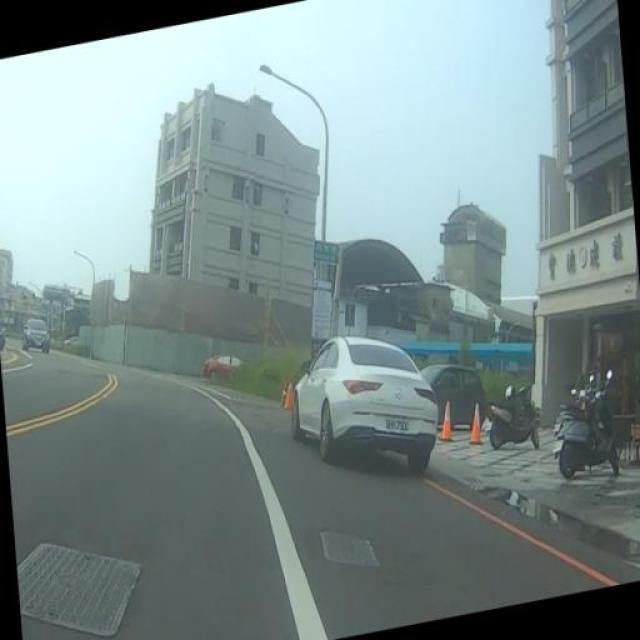Legalparking: (554, 371, 618, 479), (490, 386, 538, 448)
illegalparking: (292, 336, 436, 474)
